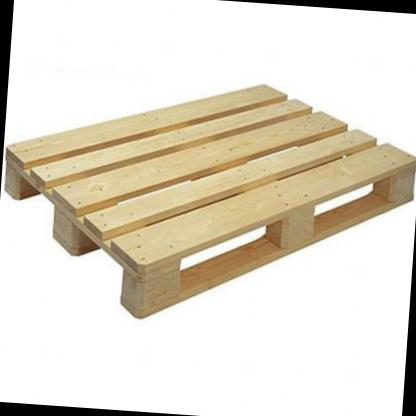BoxFace: (3, 78, 416, 321)
